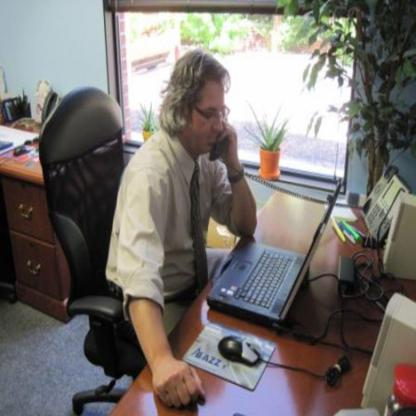board: (198, 136, 320, 344)
